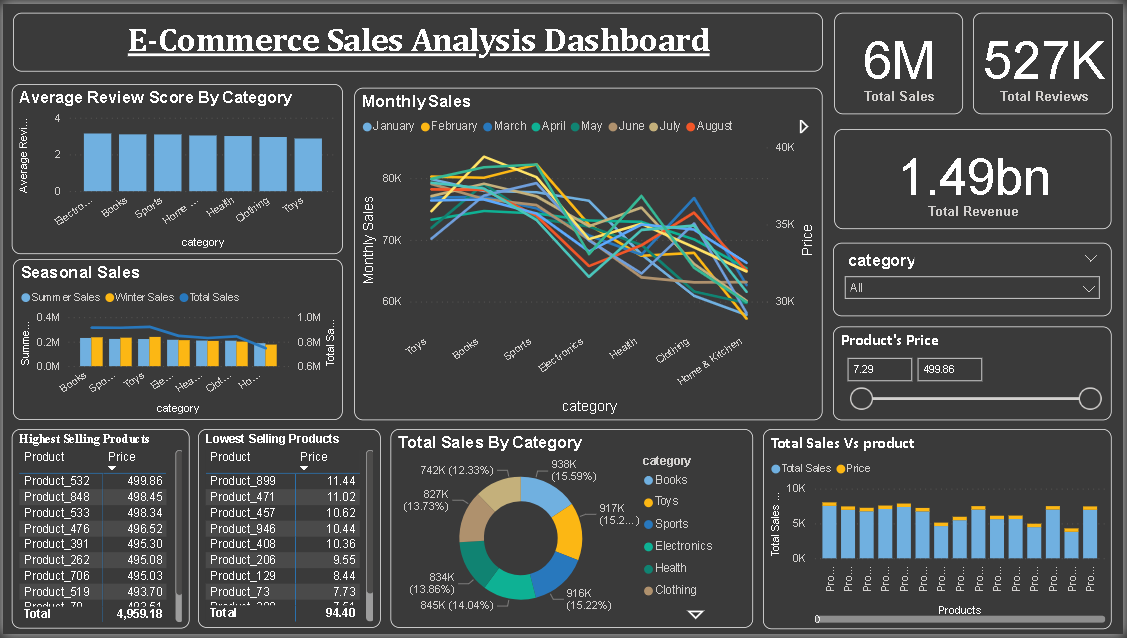

What the dashboard file says about the page in this screenshot:
{"tool":"powerbi","page":{"name":"Page 1","canvas":[1280,720],"ordinal":0},"visuals":[{"type":"lineClusteredColumnComboChart","title":"Seasonal Sales","fields":{"Category":["Top_Perfrming_Categories.category"],"Y":["Sum(Seasonal_Sales.Summer_sales)","Sum(Seasonal_Sales.Winter_sales)"],"Y2":["Sum(ecommerce_sales_analysis.total_sales)"]},"box":[11.4,291.4,377.1,184.3],"z":0},{"type":"clusteredColumnChart","title":"Average Review Score By Category","fields":{"Category":["Average_Review.category"],"Y":["Sum(Average_Review.review_score)"]},"box":[10,91.4,378.6,194.3],"z":1000},{"type":"lineChart","title":"Monthly Sales","fields":{"Y":["Sum(ecommerce_sales_analysis.January_Sales)","Sum(ecommerce_sales_analysis.Feburary_Sales)","Sum(ecommerce_sales_analysis.March_Sales)","Sum(ecommerce_sales_analysis.April_Sales)","Sum(ecommerce_sales_analysis.May_Sales)","Sum(ecommerce_sales_analysis.June_Sales)","Sum(ecommerce_sales_analysis.July_Sales)","Sum(ecommerce_sales_analysis.August_Sales)","Sum(ecommerce_sales_analysis.September_Sales)","Sum(ecommerce_sales_analysis.October_Sales)","Sum(ecommerce_sales_analysis.November_Sales)","Sum(ecommerce_sales_analysis.December_Sales)"],"Category":["ecommerce_sales_analysis.category"],"Y2":["Sum(ecommerce_sales_analysis.price)"]},"box":[401.7,95,535,380],"z":2000},{"type":"card","title":"Total Sales","fields":{"Values":["Sum(ecommerce_sales_analysis.total_sales)"]},"box":[950,0,147.1,125.7],"z":3000},{"type":"pivotTable","title":"Highest Selling Products","fields":{"Rows":["Highest_Pricing_Product.product_name"],"Values":["Sum(Highest_Pricing_Product.price)"]},"box":[10,485,203,228],"z":4000},{"type":"donutChart","title":"Total Sales By Category","fields":{"Y":["Sum(Top_Perfrming_Categories.total_sales)"],"Category":["Top_Perfrming_Categories.category"]},"box":[442.9,485.7,414.3,227.1],"z":5000},{"type":"pivotTable","title":"Lowest Selling Products","fields":{"Rows":["ecommerce_sales_analysis.product_name"],"Values":["Sum(ecommerce_sales_analysis.price)"]},"box":[222.9,485.7,208.6,227.1],"z":6000},{"type":"columnChart","title":"Total Sales Vs product","fields":{"Y":["Sum(Total_sales_vs_price.total_sales)","Sum(Total_sales_vs_price.price)"],"Category":["Total_sales_vs_price.product_name"]},"box":[868.6,485.7,398.6,228.6],"z":7000},{"type":"slicer","fields":{"Values":["Top_Perfrming_Categories.category"]},"box":[948.6,272.9,318.6,84.3],"z":8000},{"type":"slicer","title":"Product''s Price","fields":{"Values":["ecommerce_sales_analysis.price"]},"box":[948.6,368.6,318.6,107.1],"z":9000},{"type":"card","fields":{"Values":["Sum(ecommerce_sales_analysis.Total_Revenue)"]},"box":[950,142.9,317.1,114.3],"z":10000},{"type":"card","fields":{"Values":["Sum(ecommerce_sales_analysis.review_count)"]},"box":[1108.6,0,160,125.7],"z":11000},{"type":"textbox","box":[11.4,10,925.7,67.1],"z":12000}]}

Visuals, with their boxes in screenshot pixels (x1, y1, x2, y2), scaled from the page's 1280x720 canvas onto the 1127x638 screenshot:
"Seasonal Sales" lineClusteredColumnComboChart: detection(10, 258, 342, 422)
"Average Review Score By Category" clusteredColumnChart: detection(9, 81, 342, 253)
"Monthly Sales" lineChart: detection(354, 84, 825, 421)
"Total Sales" card: detection(836, 0, 966, 111)
"Highest Selling Products" pivotTable: detection(9, 430, 188, 632)
"Total Sales By Category" donutChart: detection(390, 430, 755, 632)
"Lowest Selling Products" pivotTable: detection(196, 430, 380, 632)
"Total Sales Vs product" columnChart: detection(765, 430, 1116, 633)
slicer - Top_Perfrming_Categories.category: detection(835, 242, 1116, 317)
"Product''s Price" slicer: detection(835, 327, 1116, 422)
card - Sum(ecommerce_sales_analysis.Total_Revenue): detection(836, 127, 1116, 228)
card - Sum(ecommerce_sales_analysis.review_count): detection(976, 0, 1117, 111)
textbox: detection(10, 9, 825, 68)
